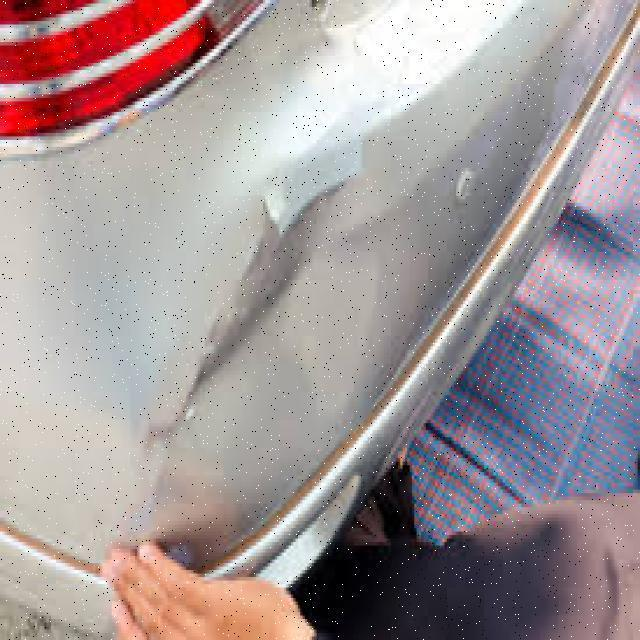rear-bumper-dent: (0, 0, 526, 637)
